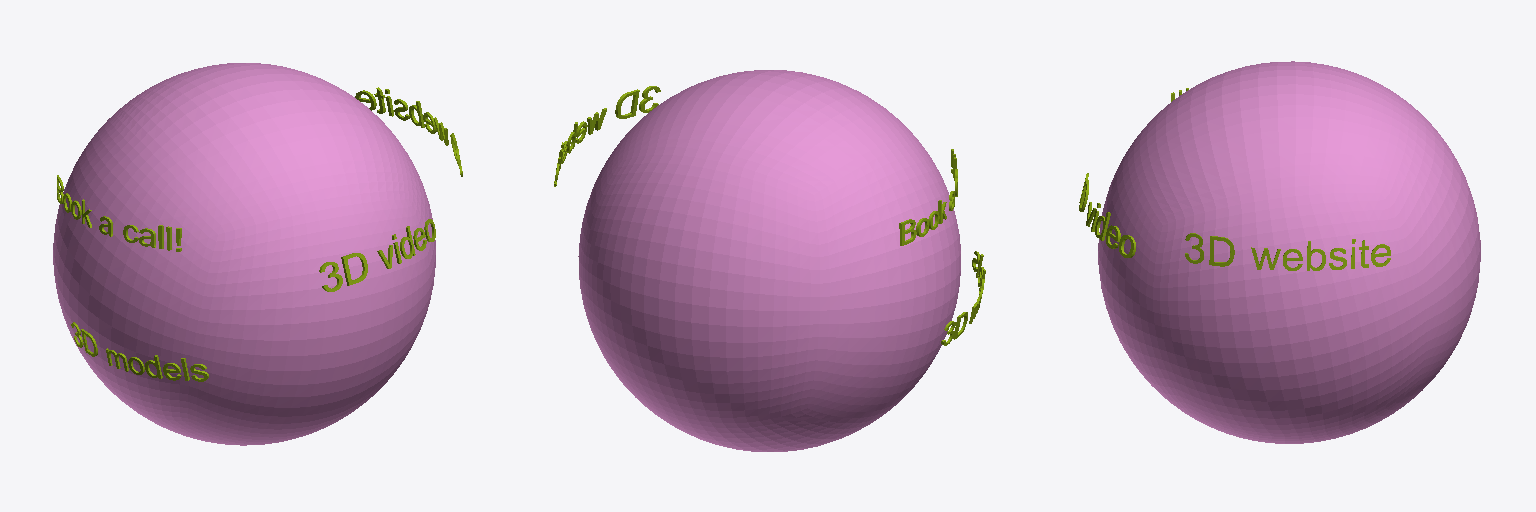
The model's file is Planet.obj.
The picture shows the model from 3 angles: view 1: azimuth 30°, elevation 25°; view 2: azimuth 150°, elevation 25°; view 3: azimuth 270°, elevation 25°; orthographic projection.
Parts seen in each view (by area): view 1: Box001, 3D_video, 3D_website, 3D_models, Call; view 2: Box001, 3D_website, Call, 3D_models; view 3: Box001, 3D_website, 3D_video.
Boxes of the visible parts, x1,y1,x2,y2 form: Box001: [53, 63, 435, 445]; 3D_video: [319, 219, 435, 291]; 3D_website: [355, 87, 462, 176]; 3D_models: [71, 322, 208, 381]; Call: [57, 175, 181, 251]; Box001: [578, 70, 960, 451]; 3D_website: [554, 86, 660, 186]; Call: [899, 149, 957, 245]; 3D_models: [941, 251, 985, 345]; Box001: [1098, 61, 1480, 443]; 3D_website: [1185, 233, 1390, 270]; 3D_video: [1079, 173, 1135, 257].
Size of the model in its own units: 66.37 by 59.92 by 62.94.